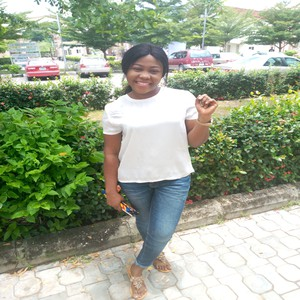Fulokoja_female_student: (108, 44, 201, 282)
